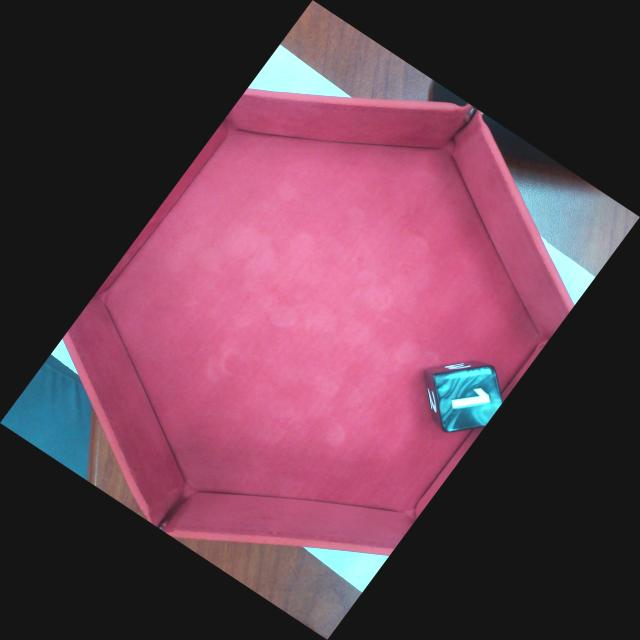dice: (432, 363, 507, 435)
